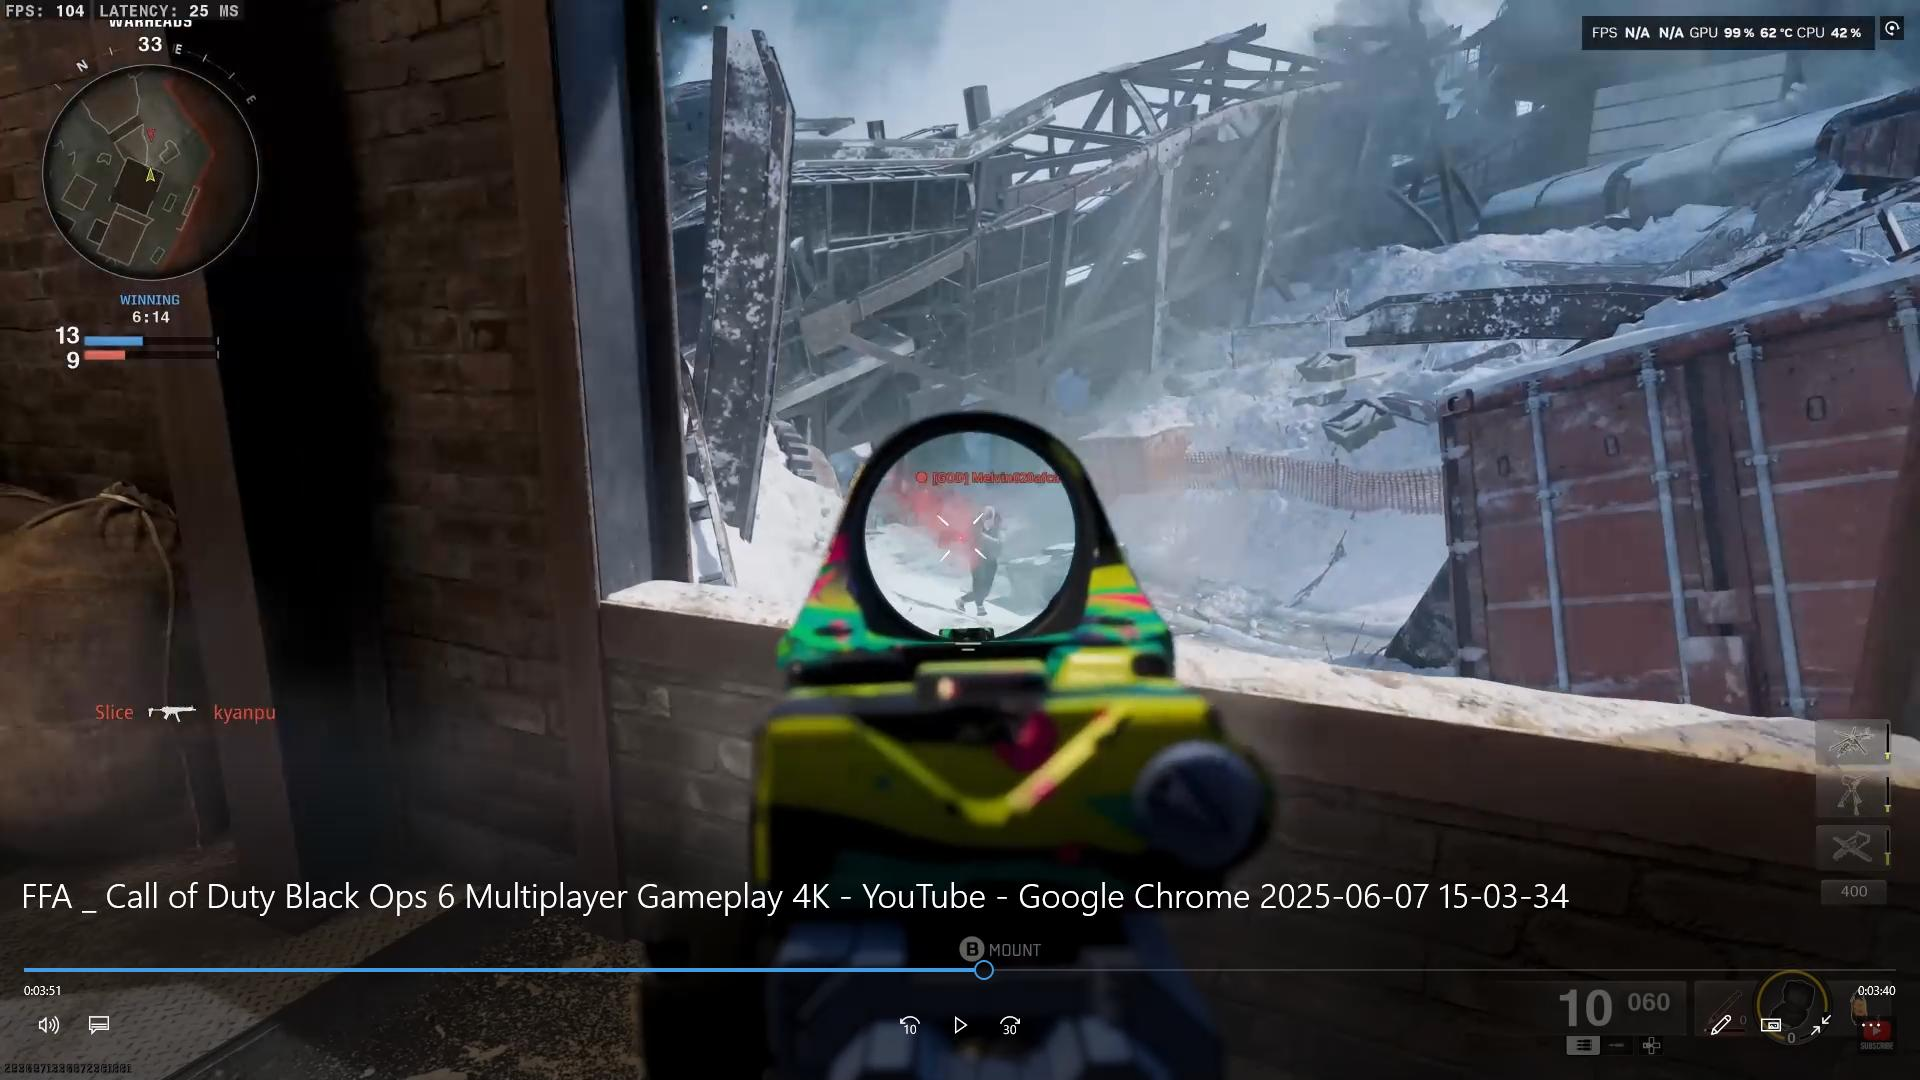Enemy: (963, 504, 1001, 624)
